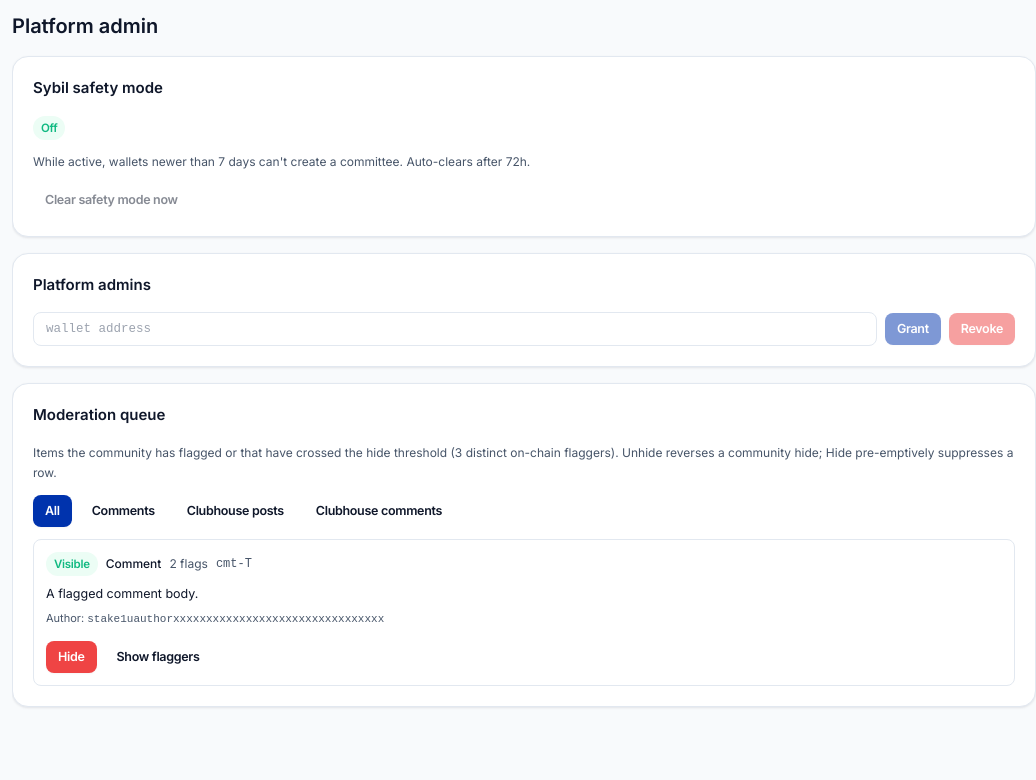
Test: AdminPanel — moderation section › toggling the flaggers section reveals the Show flaggers button
Click the button with test id "moderation-flaggers-toggle-cmt-T" at (158, 656), box x1=104 y1=640 x2=212 y2=672
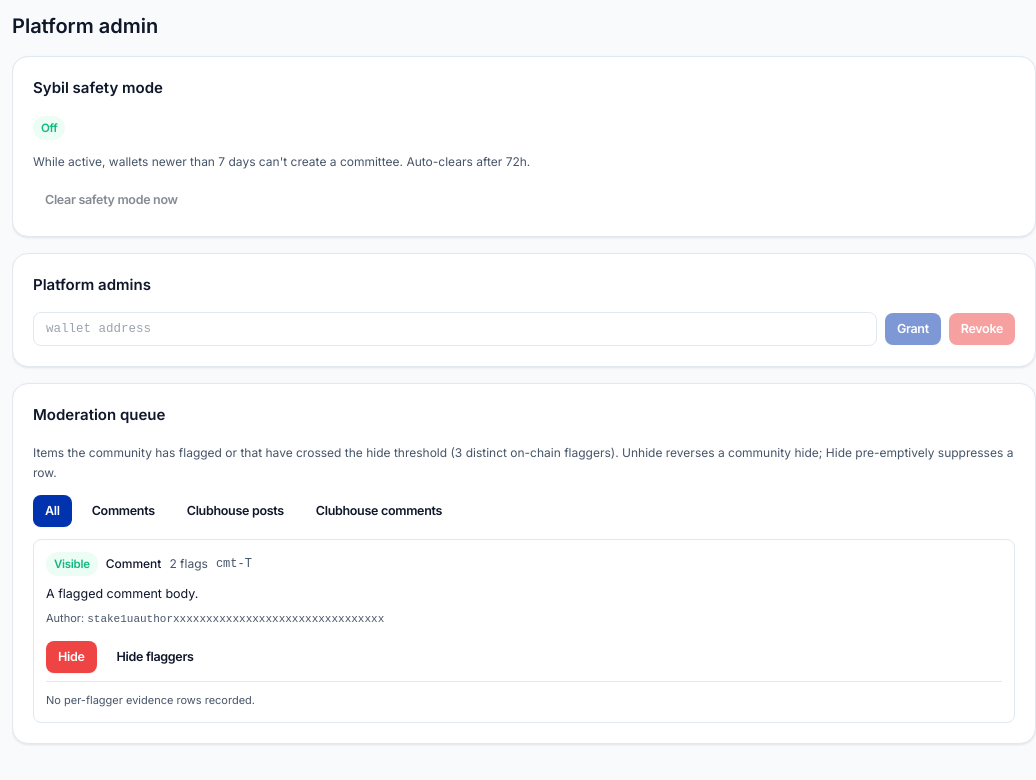
Result: the button with test id "moderation-flaggers-toggle-cmt-T" is expanded at x1=104 y1=640 x2=206 y2=672
